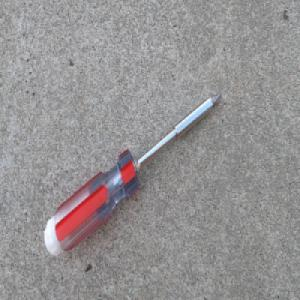Screwdriver: (43, 90, 224, 257)
